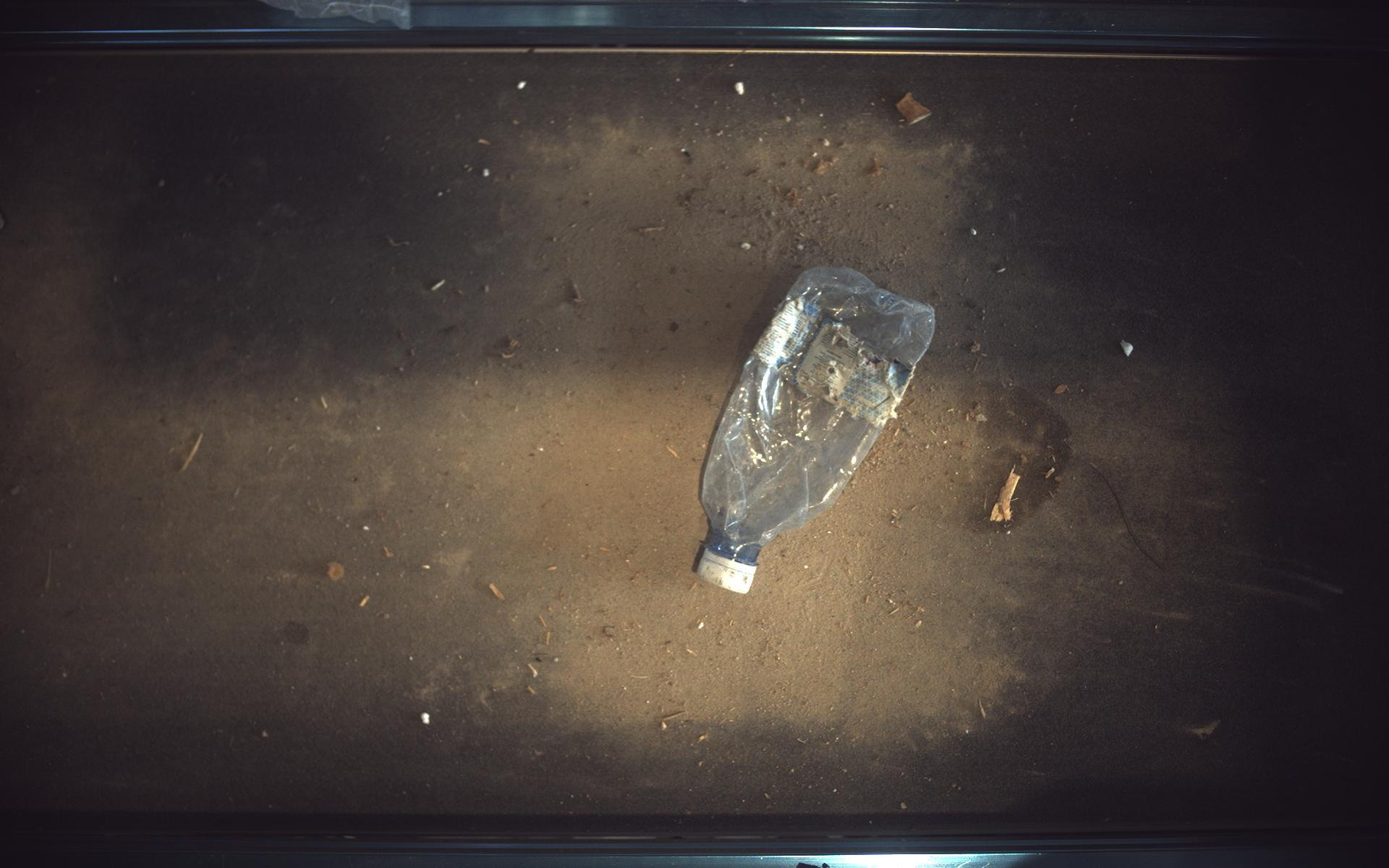general_w: (699, 267, 937, 594)
